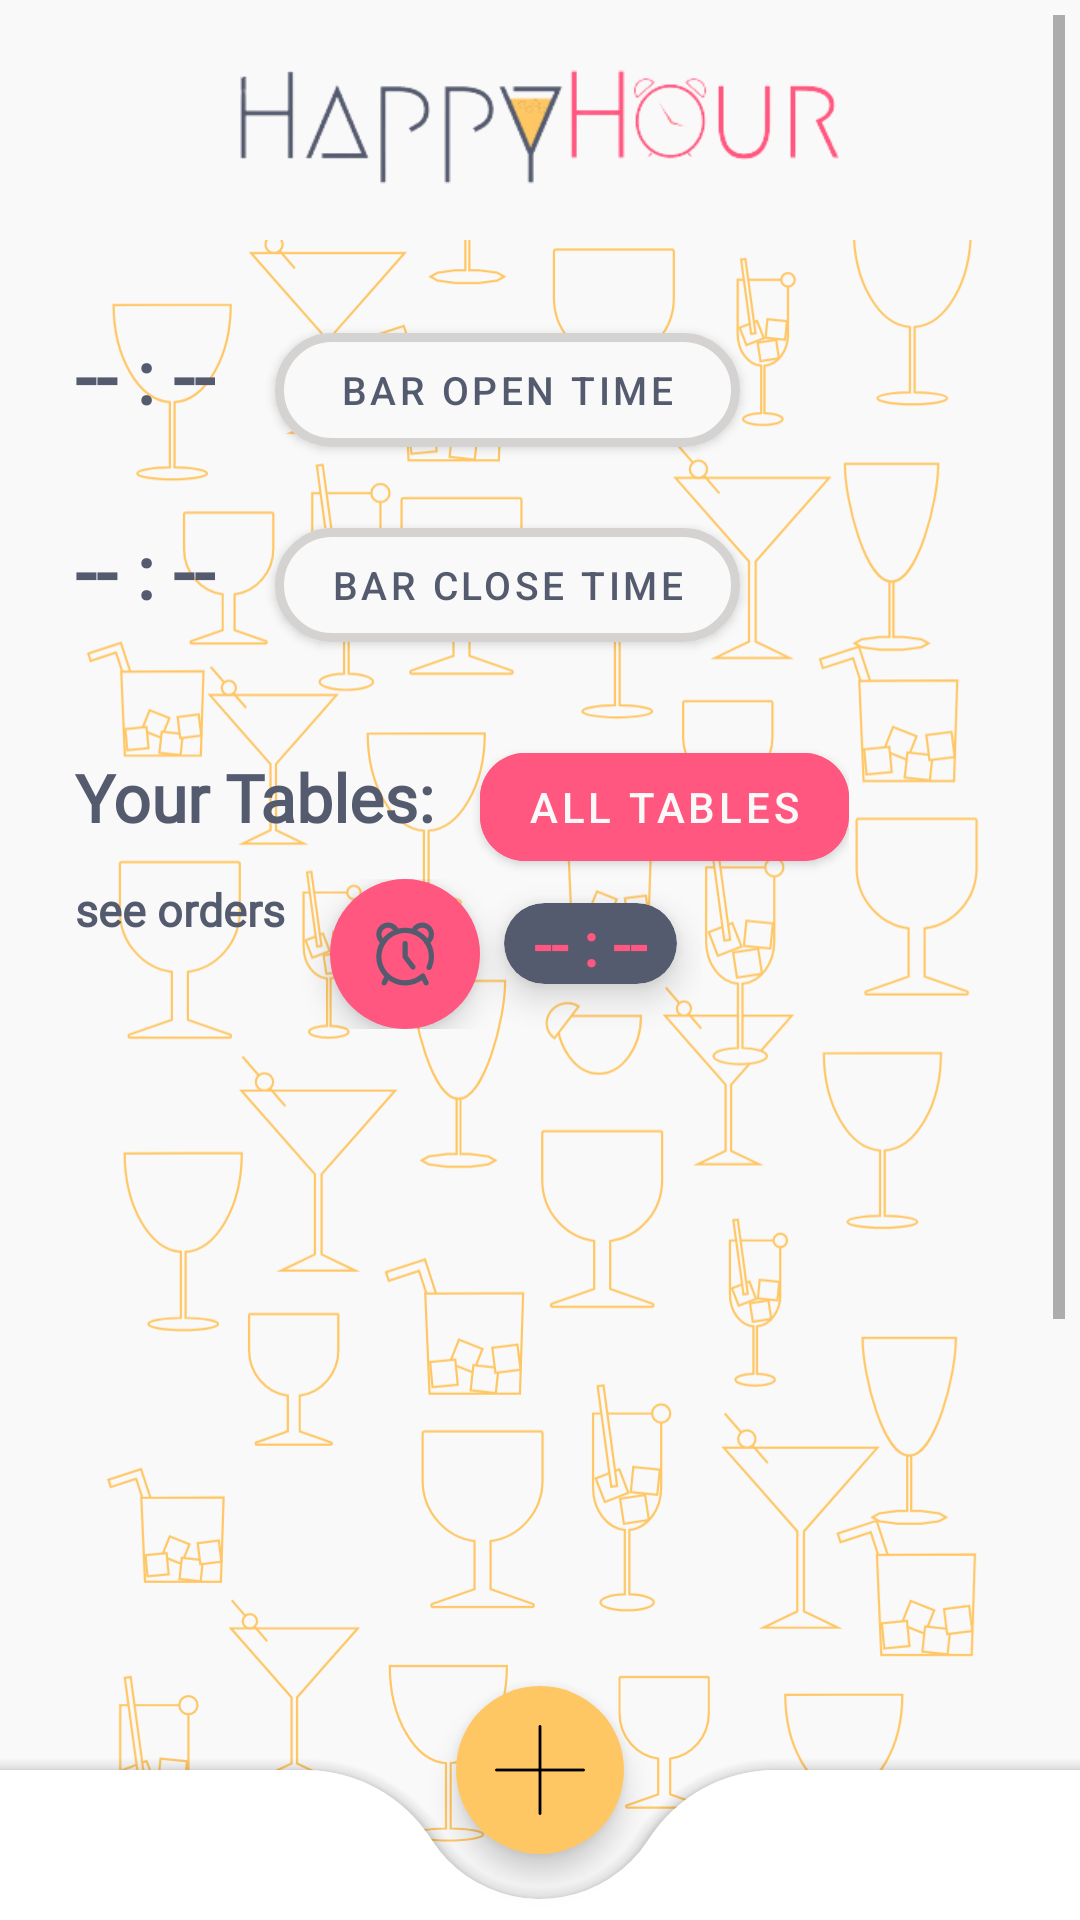

Icons on this 1080×1920 Android screen, each with the point to tap as point (x, y):
plus: point (540, 1770)
time: point (405, 954)
